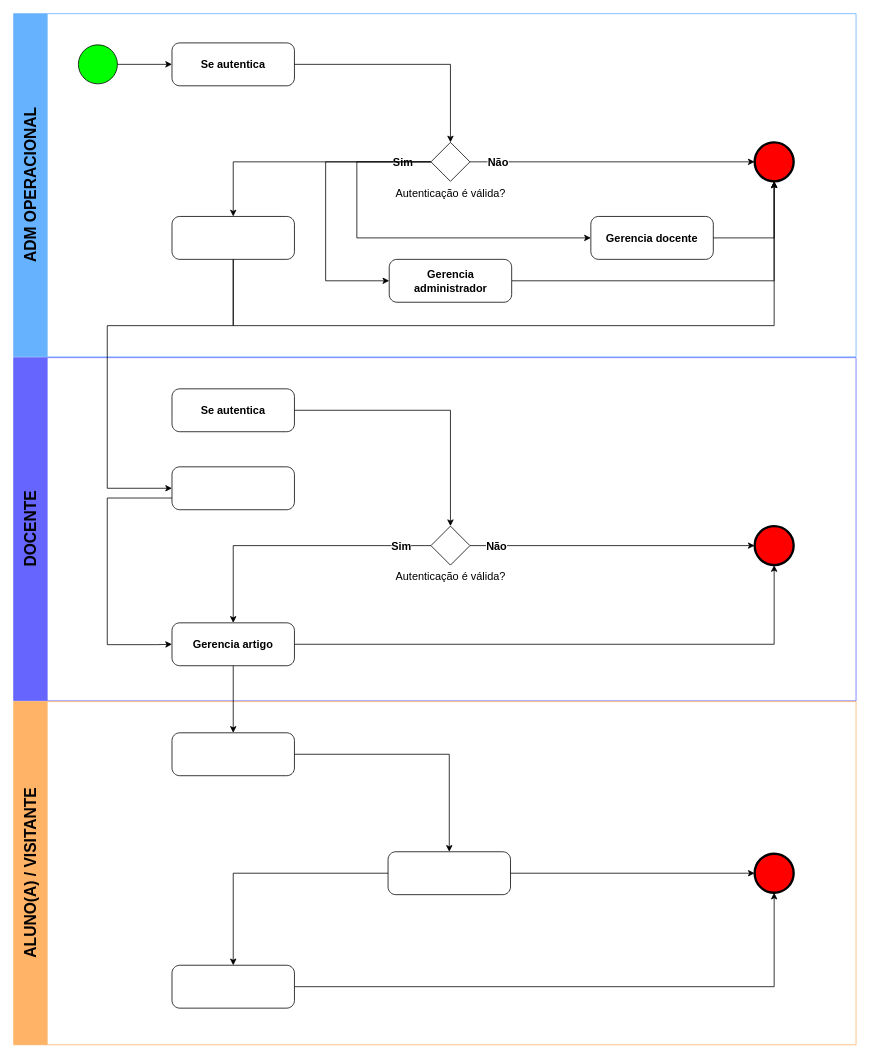
The diagram is 870 pixels wide and 1058 high, and some of its shapes have lost their labels. Here are the shapes that lost their labels. From the top down, the centre of each, then its label:
At point 232,237: "Gerencia categoria".
At point 232,488: "Categoria disponível para associação".
At point 232,754: "Disponibiliza artigos".
At point 449,873: "São visualizados".
At point 232,986: "Visualiza detalhes do artigo".
